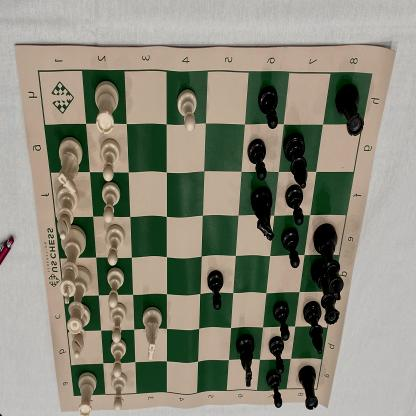black-bishop: (283, 134, 308, 186), (304, 301, 323, 355)
black-king: (313, 224, 345, 302)
black-knight: (249, 186, 274, 244), (235, 334, 255, 388)
black-pawn: (247, 138, 268, 183), (257, 88, 278, 130), (285, 185, 305, 227), (206, 269, 224, 312), (281, 230, 300, 270), (266, 370, 282, 411), (273, 302, 290, 340), (268, 336, 285, 374)
black-queen: (312, 259, 341, 326)
black-rook: (335, 84, 365, 140), (298, 365, 319, 412)
white-bishop: (56, 185, 79, 241), (70, 305, 91, 359)
white-king: (58, 225, 86, 306)
white-knight: (56, 136, 84, 199), (140, 302, 165, 364)
white-pawn: (98, 178, 122, 223), (97, 138, 120, 181), (104, 267, 128, 308), (177, 88, 199, 132), (103, 225, 126, 266), (108, 339, 130, 377), (106, 304, 127, 343), (111, 372, 127, 411)
white-queen: (66, 266, 91, 336)
white-rook: (93, 81, 119, 136), (76, 372, 97, 416)
